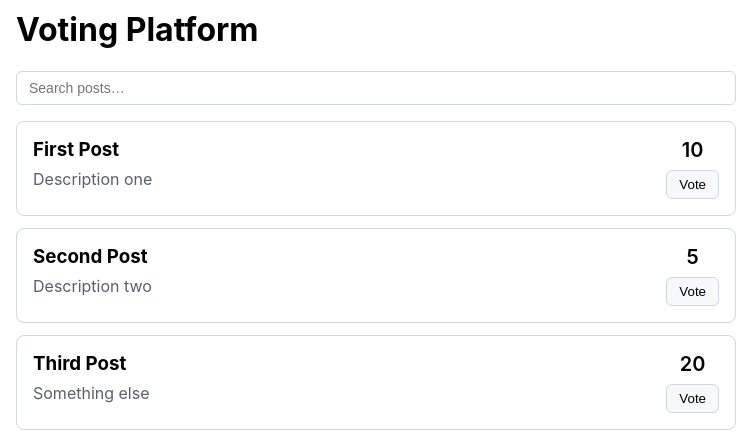
PostFeed › TODO [2]: handleSearch › should apply the filter after the debounce period
In the search field with placeholder "Search posts…": (376, 88) [16,71,736,105], type "First"
Wait 350 ms
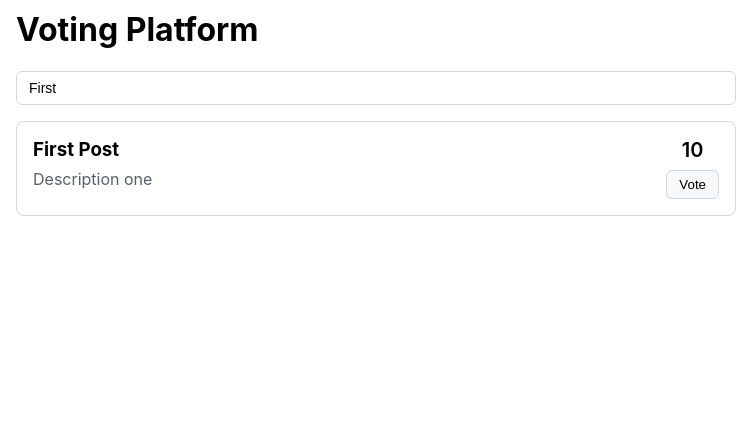
Expected: the heading "First Post" is shown, [33,138,119,161]
Now the heading "Third Post" is gone
